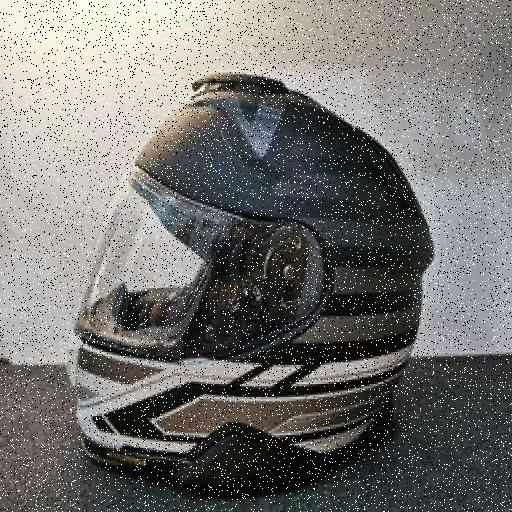Helmet: (64, 68, 429, 500)
